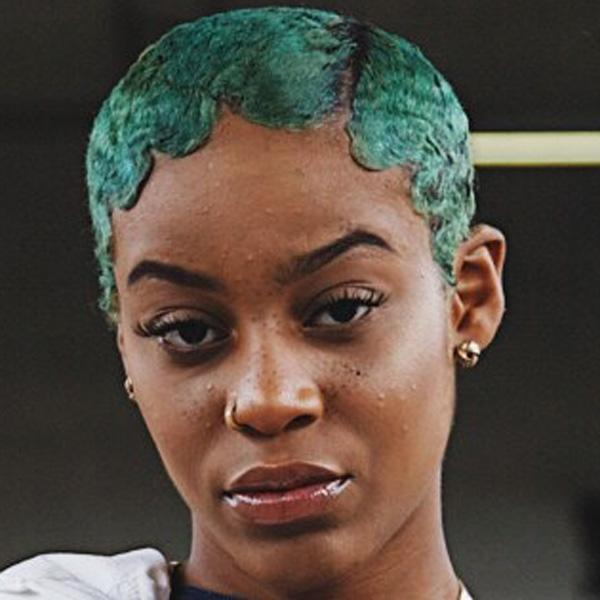Eyes: (295, 278, 391, 342), (149, 303, 236, 364)
